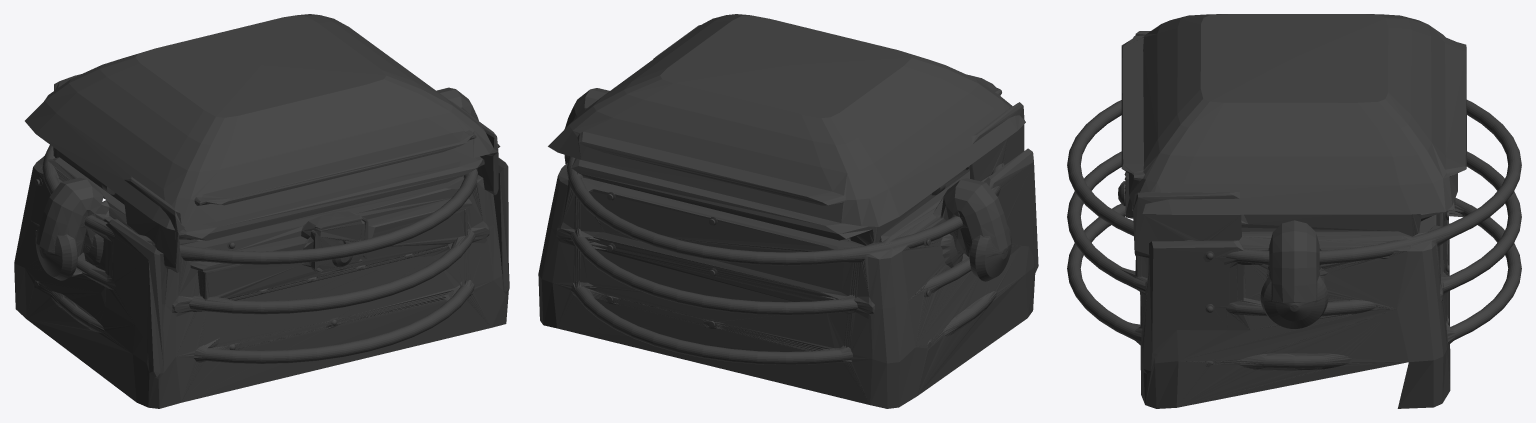
3 renders of one model, left to right at view 1: azimuth 30°, elevation 25°; view 2: azimuth 150°, elevation 25°; view 3: azimuth 270°, elevation 25°, orthographic. The views are drawn at different scales.
Visible parts, largest first — view 1: body, lid_panel, lock_plate, handle_l, front_hatch, foot_l, handle_r; view 2: lid_panel, body, handle_l, foot_l, handle_r; view 3: lid_panel, body, handle_r, lock_plate, foot_r.
Boxes of the visible parts, bbox=[...] form: body: bbox=[14, 96, 509, 408]; lid_panel: bbox=[25, 14, 500, 295]; lock_plate: bbox=[211, 85, 465, 273]; handle_l: bbox=[28, 92, 172, 331]; front_hatch: bbox=[153, 198, 472, 302]; foot_l: bbox=[27, 319, 136, 402]; handle_r: bbox=[436, 87, 478, 120]; lid_panel: bbox=[548, 14, 1025, 308]; body: bbox=[538, 79, 1038, 408]; handle_l: bbox=[874, 93, 1016, 394]; foot_l: bbox=[918, 274, 1027, 395]; handle_r: bbox=[564, 88, 609, 163]; lid_panel: bbox=[1121, 14, 1466, 298]; body: bbox=[1067, 100, 1521, 408]; handle_r: bbox=[1181, 156, 1399, 406]; lock_plate: bbox=[1118, 28, 1200, 218]; foot_r: bbox=[1177, 369, 1308, 407].
Size of the model in its own units: 80.55 by 44.99 by 68.7.
1 material, 1 textured.
